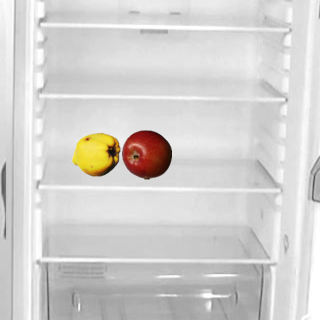Apple Braeburn: (121, 129, 171, 179)
Quince: (70, 129, 120, 179)
